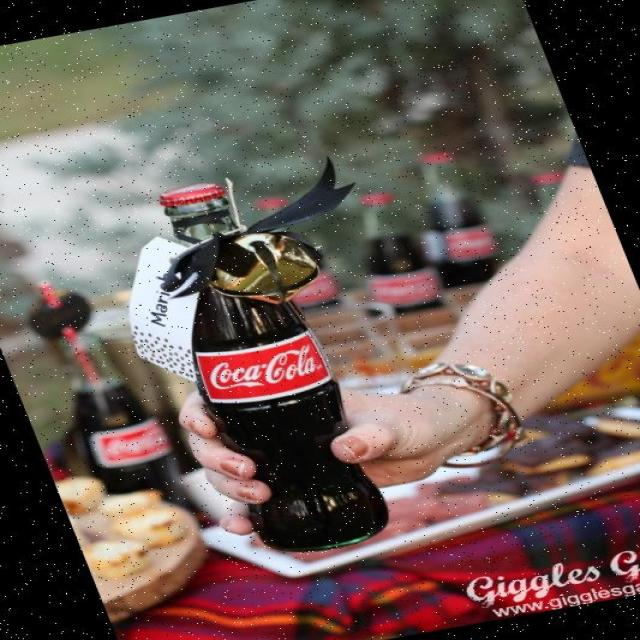coca-cola: (105, 164, 419, 568), (29, 313, 206, 536), (328, 187, 460, 328), (392, 147, 518, 293)
